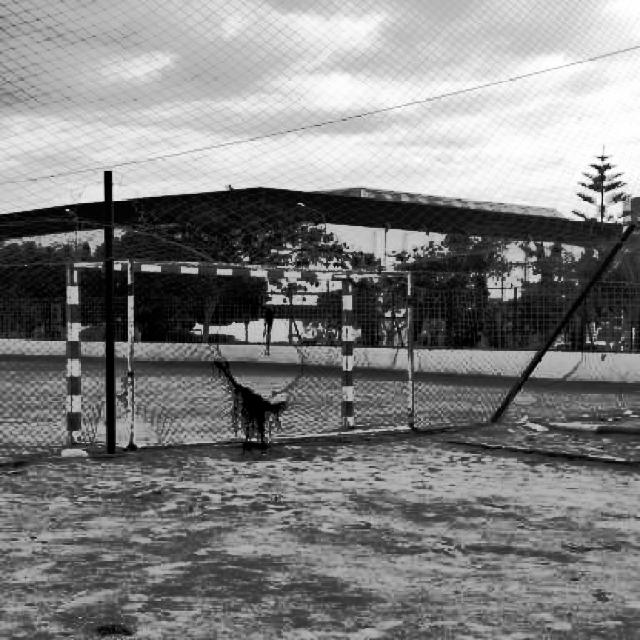anomaly-fence: (202, 253, 322, 421), (516, 311, 627, 398), (83, 347, 141, 450)
